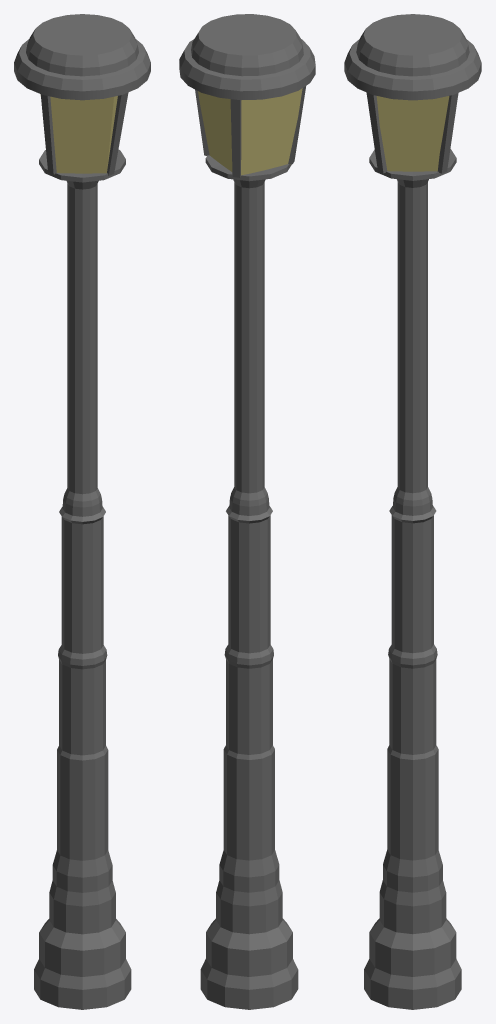
Rendered from StreetLight1.fbx.
The picture shows the model from 3 angles, left to right: view 1: azimuth 90°, elevation 25°; view 2: azimuth 210°, elevation 25°; view 3: azimuth 270°, elevation 25°; orthographic projection.
Visible parts, largest first — view 1: StreetLight1; view 2: StreetLight1; view 3: StreetLight1.
Part boxes in pixels (box(x1,y1,x2,y2)): StreetLight1: box(14, 14, 150, 1009); StreetLight1: box(179, 14, 315, 1009); StreetLight1: box(344, 14, 481, 1009).
Size of the model in its own units: 0.6065 by 4.66 by 0.6065.
